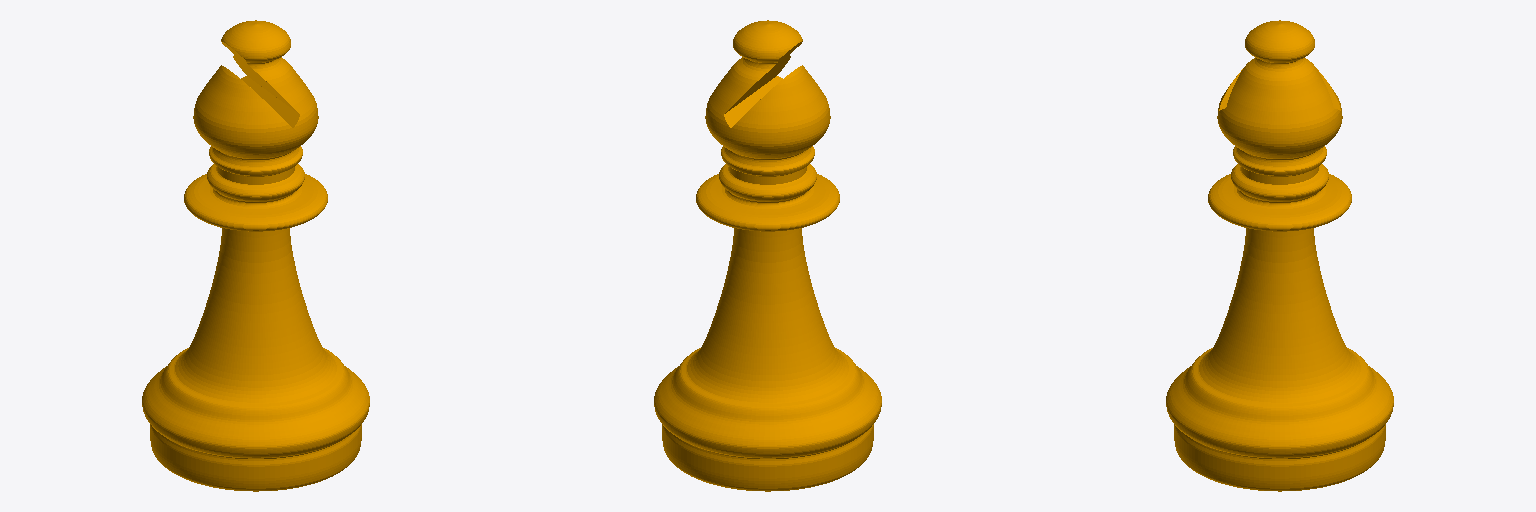
robot.urdf — bishop:
<?xml version='1.0' encoding='utf-8'?>
<robot name="bishop"><link name="bishop"><inertial><origin xyz="1.7155265983434285e-06 2.6791655462640164e-13 0.009927791344219826" rpy="0 0 0" /><mass value="0.003" /><inertia ixx="3.160625223554677e-07" iyy="3.160625223554677e-07" izz="1.2012499607354407e-07" ixy="0" ixz="0" iyz="0" /></inertial><visual><geometry><mesh filename="bishop.obj" /></geometry></visual><collision><geometry><mesh filename="collision/bishop_00.obj" /></geometry></collision><collision><geometry><mesh filename="collision/bishop_01.obj" /></geometry></collision><collision><geometry><mesh filename="collision/bishop_02.obj" /></geometry></collision><collision><geometry><mesh filename="collision/bishop_03.obj" /></geometry></collision><collision><geometry><mesh filename="collision/bishop_04.obj" /></geometry></collision><collision><geometry><mesh filename="collision/bishop_05.obj" /></geometry></collision><collision><geometry><mesh filename="collision/bishop_06.obj" /></geometry></collision><collision><geometry><mesh filename="collision/bishop_07.obj" /></geometry></collision><collision><geometry><mesh filename="collision/bishop_08.obj" /></geometry></collision><collision><geometry><mesh filename="collision/bishop_09.obj" /></geometry></collision><collision><geometry><mesh filename="collision/bishop_10.obj" /></geometry></collision><collision><geometry><mesh filename="collision/bishop_11.obj" /></geometry></collision><collision><geometry><mesh filename="collision/bishop_12.obj" /></geometry></collision><collision><geometry><mesh filename="collision/bishop_13.obj" /></geometry></collision><collision><geometry><mesh filename="collision/bishop_14.obj" /></geometry></collision><collision><geometry><mesh filename="collision/bishop_15.obj" /></geometry></collision><collision><geometry><mesh filename="collision/bishop_16.obj" /></geometry></collision><collision><geometry><mesh filename="collision/bishop_17.obj" /></geometry></collision></link></robot>

--- What the picture shows (computed from the rendered views, not written in the file) ---
The picture shows the robot from 3 angles, left to right: view 1: azimuth 30°, elevation 25°; view 2: azimuth 150°, elevation 25°; view 3: azimuth 270°, elevation 25°; orthographic projection.
Model bishop with 1 links and 0 joints (none), rooted at bishop, posed all joints at 0.
Visible links, largest first — view 1: bishop; view 2: bishop; view 3: bishop.
Boxes of the visible links, bbox=[...] form: bishop: bbox=[142, 20, 369, 491]; bishop: bbox=[654, 20, 881, 491]; bishop: bbox=[1166, 20, 1393, 491].
Size in the robot's own frame: 0.0155 by 0.0155 by 0.032 metres.
1 mesh visuals loaded from 1 distinct referenced files (1 OBJ).
